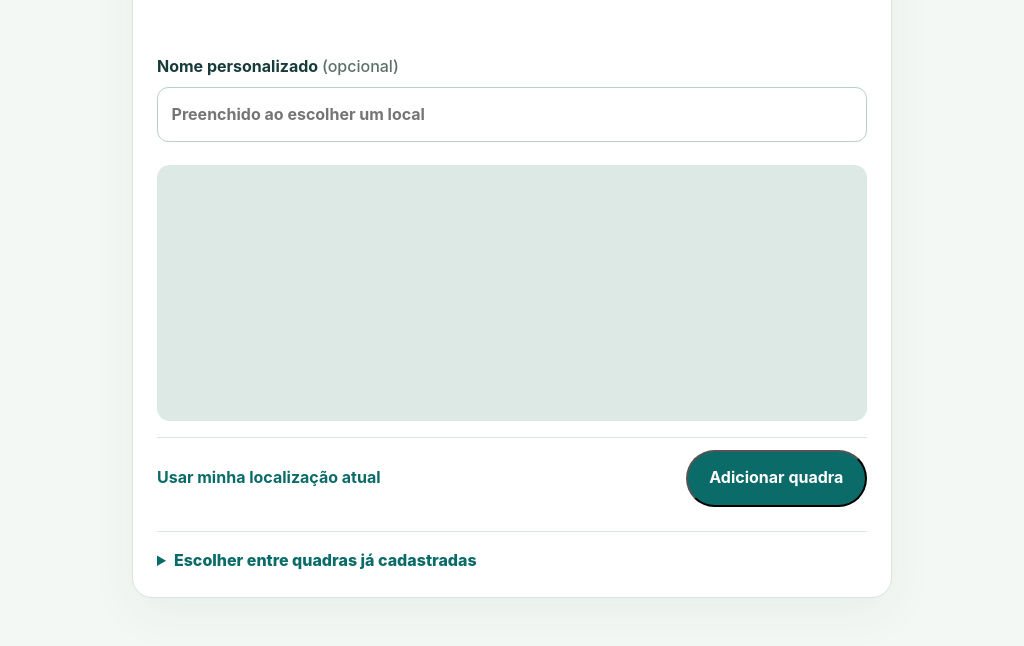
Test: locations page › saves a known court from the chooser
This screenshot has width=1024, height=646.
(page scrolled)
Click the heading "Escolher entre quadras já cadastradas": (325, 560) [174,550,477,570]
(page scrolled)
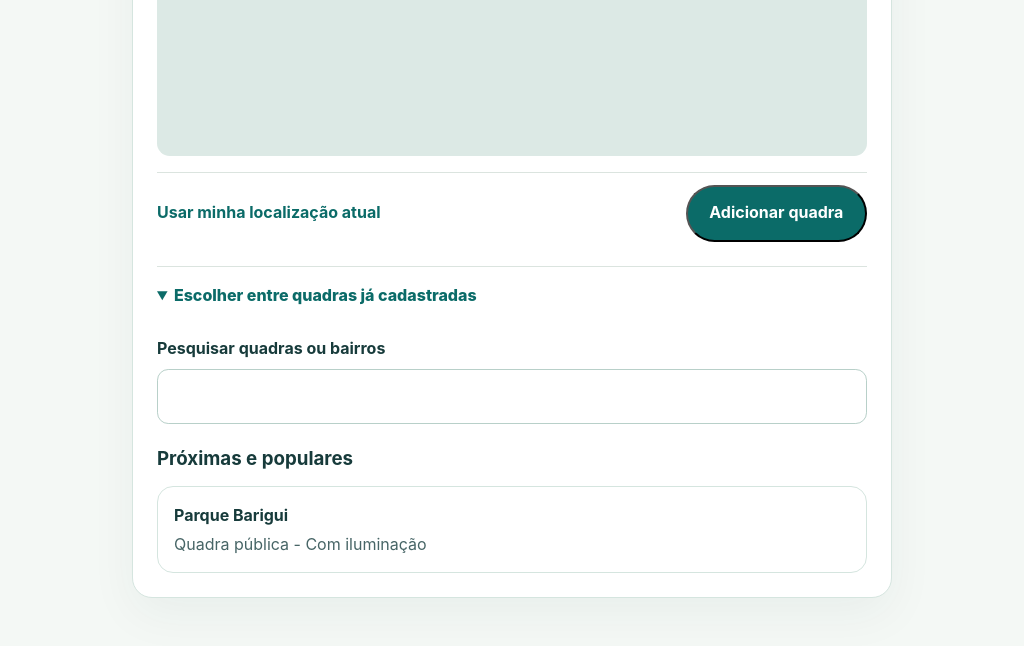
Click the button "Parque Barigui Quadra pública - Com iluminação": (231, 515) [157,486,867,573]
(page scrolled)
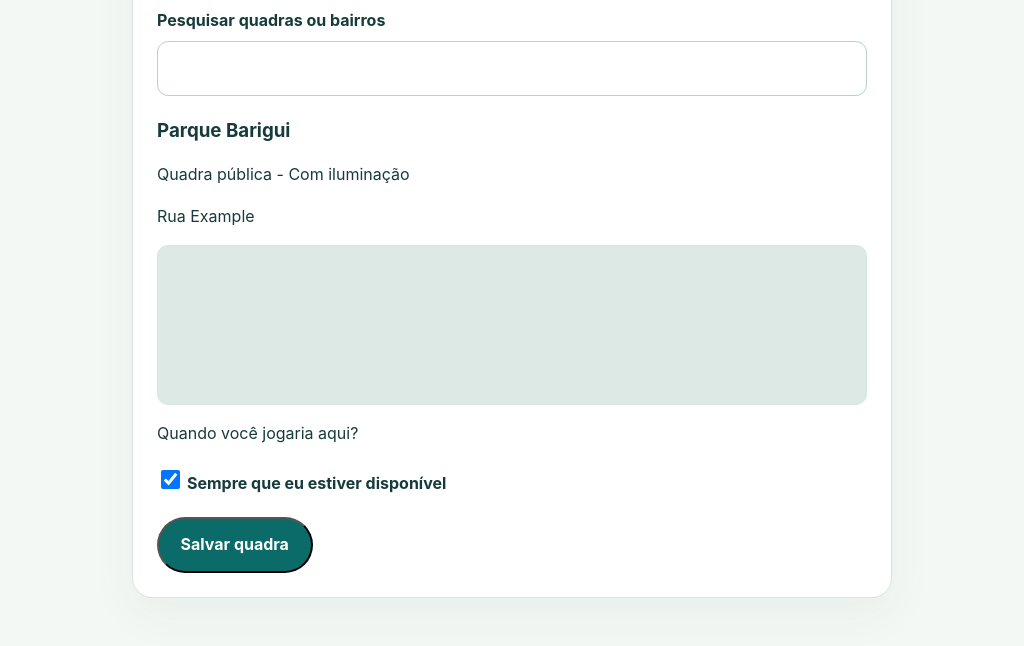
Click the button "Salvar quadra": (235, 545) [157,516,312,573]
(page scrolled)
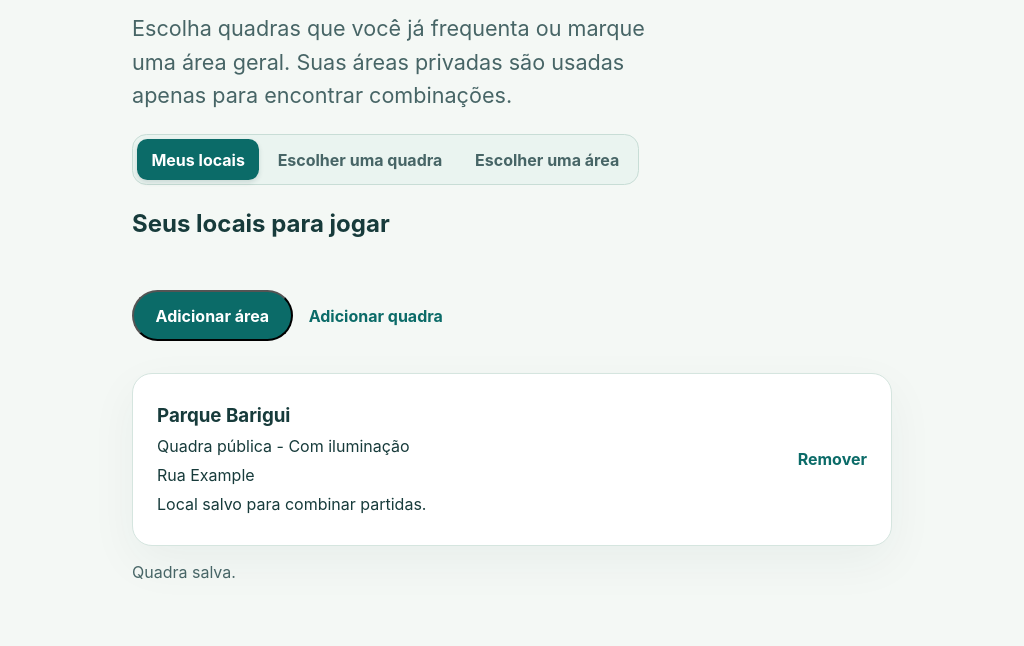
Expected: the text "Quadra salva." is shown, [132,562,236,582]
